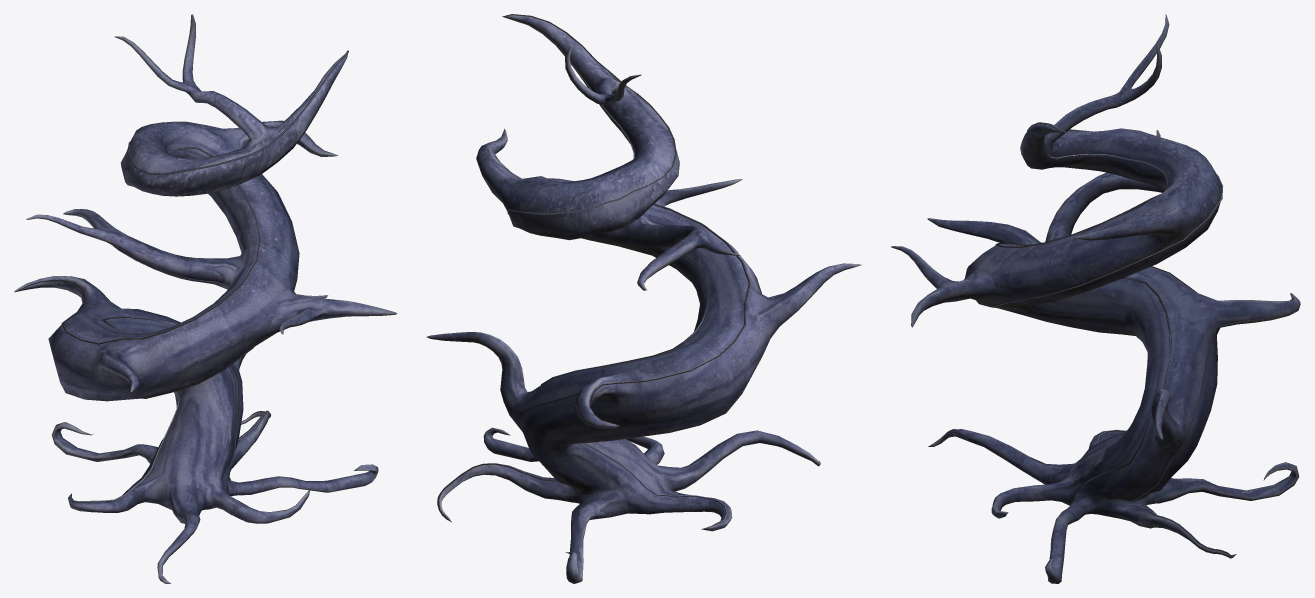
Rendered from Tree01_Art-transformed.glb.
The picture shows the model from 3 angles, left to right: view 1: azimuth 30°, elevation 25°; view 2: azimuth 150°, elevation 25°; view 3: azimuth 270°, elevation 25°; orthographic projection. The views are drawn at different scales.
Parts seen in each view (by area): view 1: Tree01_Art; view 2: Tree01_Art; view 3: Tree01_Art.
Part boxes in pixels (<box>): Tree01_Art: <box>14,14,397,583</box>; Tree01_Art: <box>426,14,861,583</box>; Tree01_Art: <box>890,14,1300,583</box>.
Bounding box in the file's own units: 58.63 × 84.13 × 64.8.
Materials: 6 (6 with a texture image).
